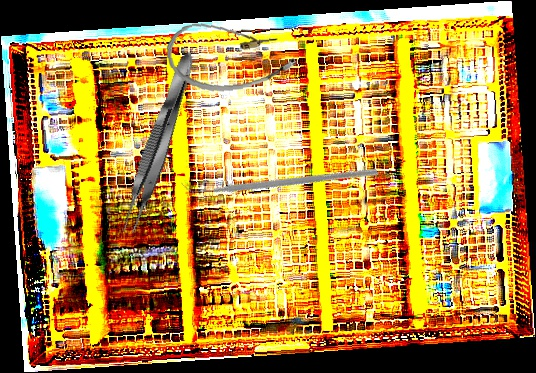Cannula: (164, 13, 299, 97)
Chopper: (178, 80, 380, 274)
Tissue Forceps: (115, 47, 203, 239)
